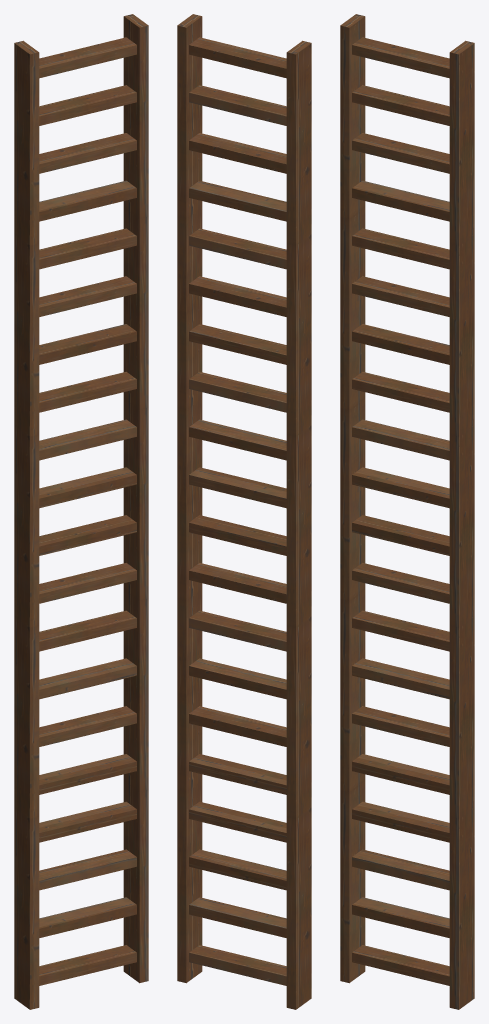
File: Ladder.fbx
3 renders of one model, left to right at view 1: azimuth 30°, elevation 25°; view 2: azimuth 150°, elevation 25°; view 3: azimuth 330°, elevation 25°, orthographic.
Visible parts, largest first — view 1: Ladder; view 2: Ladder; view 3: Ladder.
Boxes of the visible parts, x1,y1,x2,y2 form: Ladder: (14, 14, 148, 1009); Ladder: (177, 14, 311, 1009); Ladder: (340, 14, 474, 1009).
Size of what is drawn, in the model's own units: 0.65 by 5 by 0.15.
